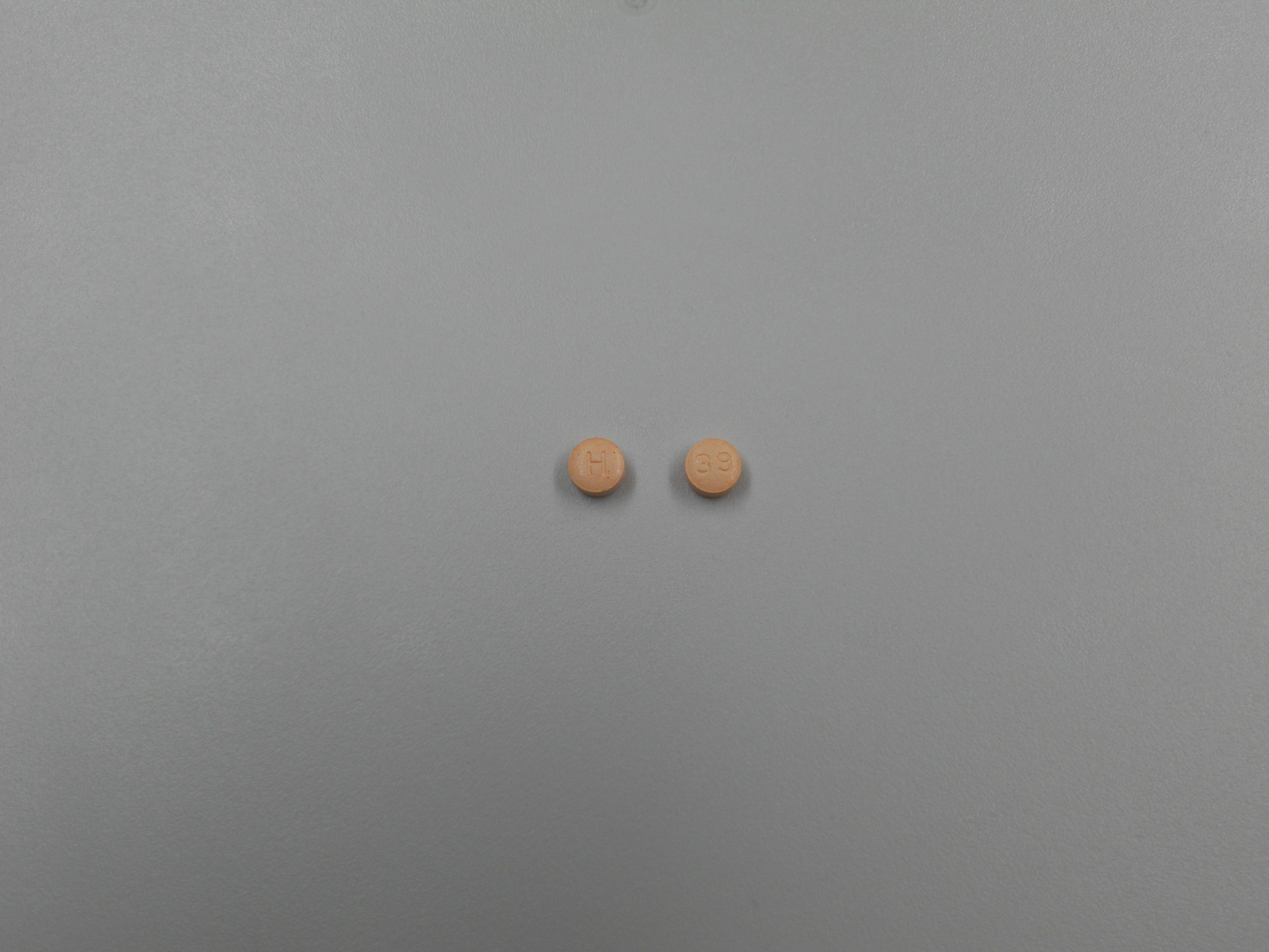Pill: (563, 432, 633, 503), (681, 433, 747, 503)
